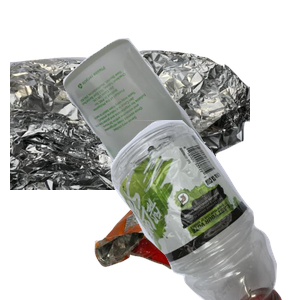glass: (60, 36, 300, 216)
metal: (10, 47, 250, 227)
plastic: (73, 120, 300, 300)
trash: (92, 174, 272, 300)
